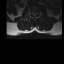CCS_severe_stenosis: (33, 12, 35, 17)
LFS_normal: (36, 11, 38, 15)
LLS_stenosis: (35, 12, 36, 15)
RFS_stenosis: (30, 11, 32, 15)
RLS_stenosis: (32, 12, 33, 16)
